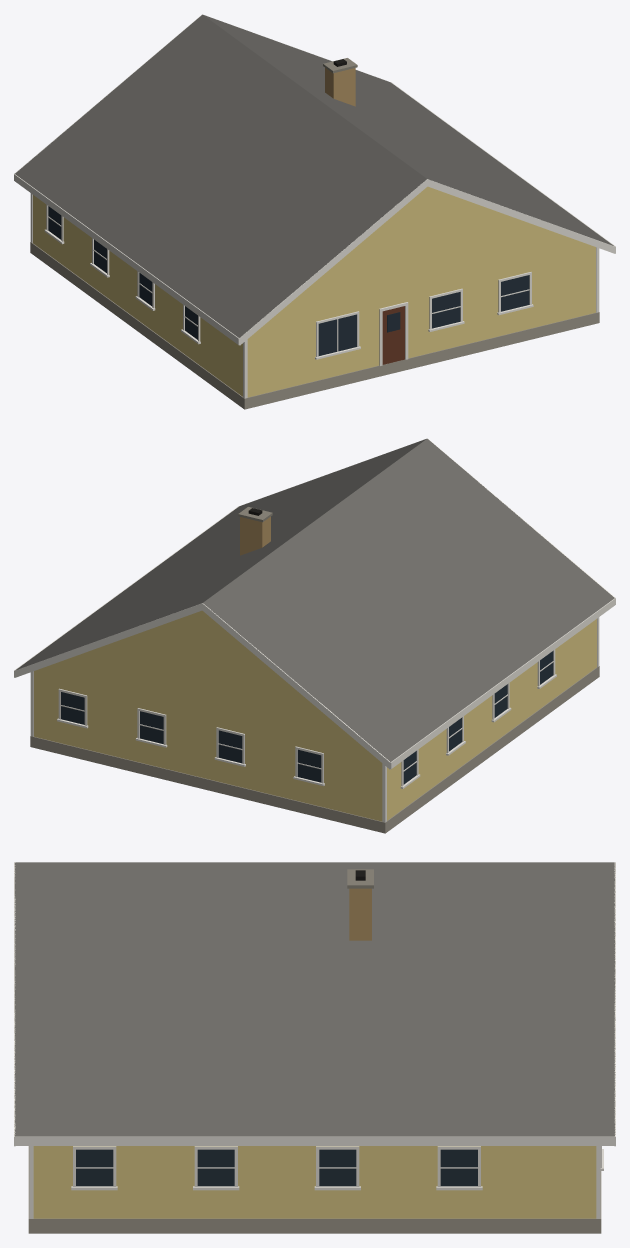
The model's file is cottage-0001.glb.
3 renders of one model, top to bottom at view 1: azimuth 30°, elevation 25°; view 2: azimuth 150°, elevation 25°; view 3: azimuth 270°, elevation 25°, orthographic. The views are drawn at different scales.
Visible parts, largest first — view 1: house_roof, house_wall, house_trim, house_foundation, house_glass, house_door, house_chimney; view 2: house_roof, house_wall, house_trim, house_foundation, house_glass, house_chimney; view 3: house_roof, house_wall, house_trim, house_foundation, house_glass, house_chimney.
Part boxes in pixels (x1,y1,x2,y2): house_roof: (15, 14, 613, 337); house_wall: (33, 186, 595, 397); house_trim: (14, 14, 615, 398); house_foundation: (30, 242, 599, 409); house_glass: (48, 206, 529, 355); house_door: (382, 306, 404, 364); house_chimney: (325, 68, 355, 106); house_roof: (15, 438, 614, 762); house_wall: (34, 610, 596, 821); house_trim: (14, 438, 615, 822); house_foundation: (30, 666, 599, 833); house_glass: (61, 651, 553, 784); house_chimney: (240, 516, 270, 555); house_roof: (14, 862, 615, 1136); house_wall: (33, 1146, 596, 1218); house_trim: (14, 862, 615, 1218); house_foundation: (28, 1146, 601, 1233); house_glass: (76, 1149, 477, 1186); house_chimney: (349, 888, 371, 940).
Bounding box in the file's own units: 15.31 × 7.89 × 15.84.
